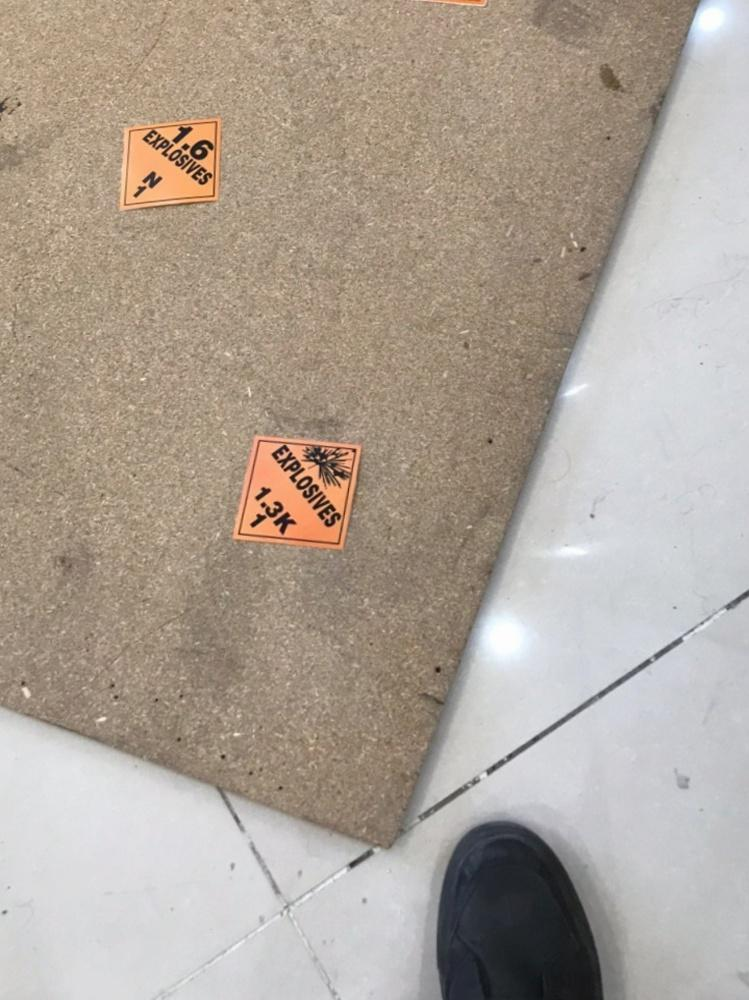explosive: (233, 431, 358, 551), (123, 117, 220, 207)
